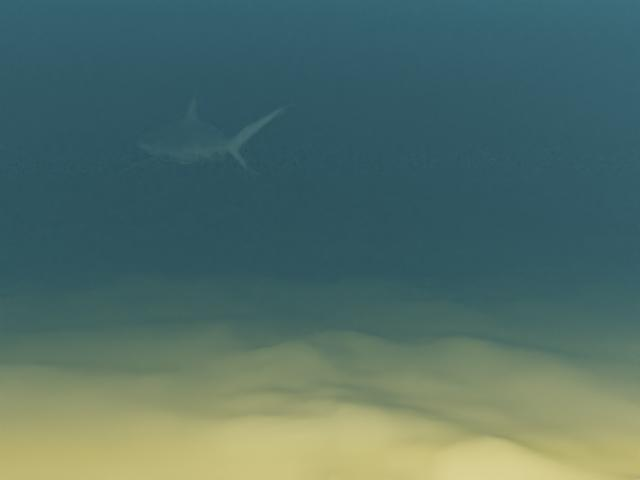Carribean Shark.001: (124, 91, 292, 175)
